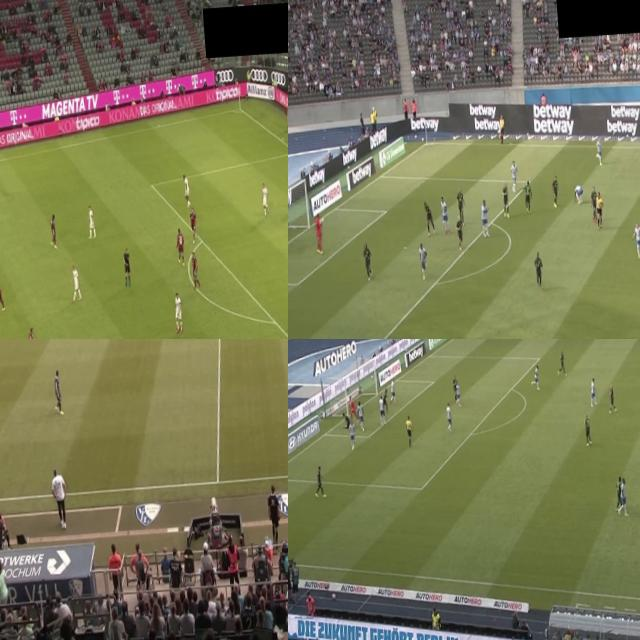ball: (318, 215, 324, 227)
player: (50, 364, 64, 419), (69, 262, 83, 302), (172, 228, 186, 268), (188, 246, 201, 286), (416, 238, 429, 278), (48, 203, 59, 250), (422, 200, 437, 234), (438, 193, 449, 235), (479, 196, 490, 237), (362, 238, 372, 282), (187, 202, 198, 240), (180, 172, 192, 206), (314, 462, 324, 502), (454, 213, 464, 251), (508, 157, 518, 195), (550, 172, 560, 210), (444, 400, 456, 431), (172, 292, 182, 328), (314, 210, 322, 254), (347, 420, 358, 452), (530, 363, 542, 392), (260, 182, 270, 216), (534, 252, 544, 286), (456, 184, 464, 226), (631, 219, 640, 256), (87, 207, 97, 240), (500, 182, 510, 215), (586, 376, 596, 406), (594, 136, 603, 168), (356, 401, 366, 429), (557, 348, 567, 376), (584, 412, 592, 446), (618, 478, 626, 512), (524, 179, 532, 212), (589, 185, 597, 217), (347, 396, 357, 421), (0, 270, 5, 317), (608, 383, 616, 412), (378, 394, 386, 422), (342, 411, 352, 432), (388, 377, 396, 402), (451, 374, 458, 402), (616, 474, 622, 506), (573, 184, 583, 202), (382, 386, 388, 412), (27, 328, 38, 339), (456, 380, 460, 408)
